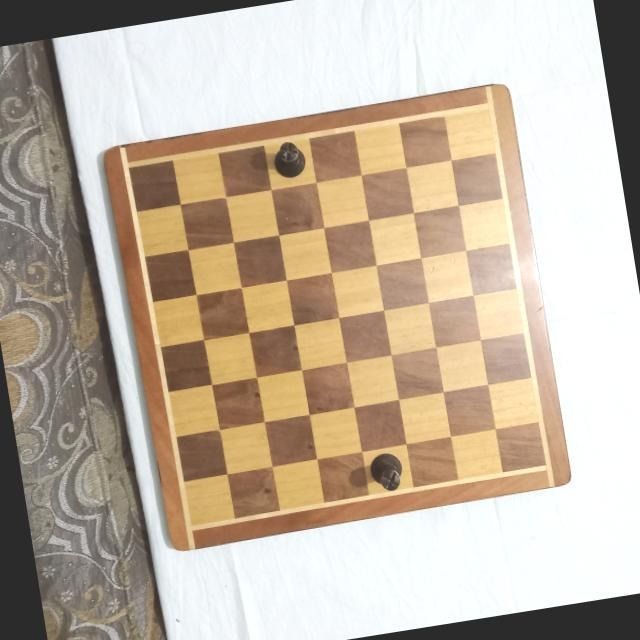black-rook: (366, 449, 405, 495), (268, 139, 308, 181)
